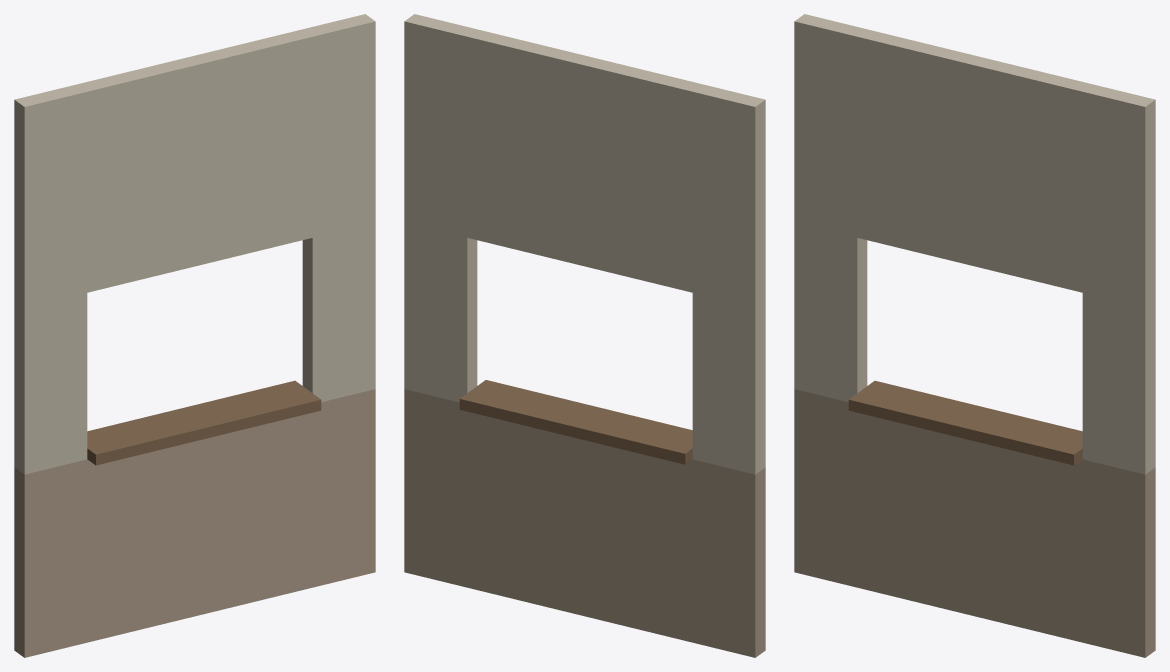
The model's file is Mesh_Wall2Colors_A3.fbx.
3 renders of one model, left to right at view 1: azimuth 30°, elevation 25°; view 2: azimuth 150°, elevation 25°; view 3: azimuth 330°, elevation 25°, orthographic.
Parts seen in each view (by area): view 1: Mesh_Wall2Colors_A3; view 2: Mesh_Wall2Colors_A3; view 3: Mesh_Wall2Colors_A3.
Part boxes in pixels (x1=…): Mesh_Wall2Colors_A3: x1=14, y1=14, x2=375, y2=657; Mesh_Wall2Colors_A3: x1=404, y1=14, x2=765, y2=657; Mesh_Wall2Colors_A3: x1=794, y1=14, x2=1155, y2=657.
Bounding box in the file's own units: 2 × 3 × 0.2574.
